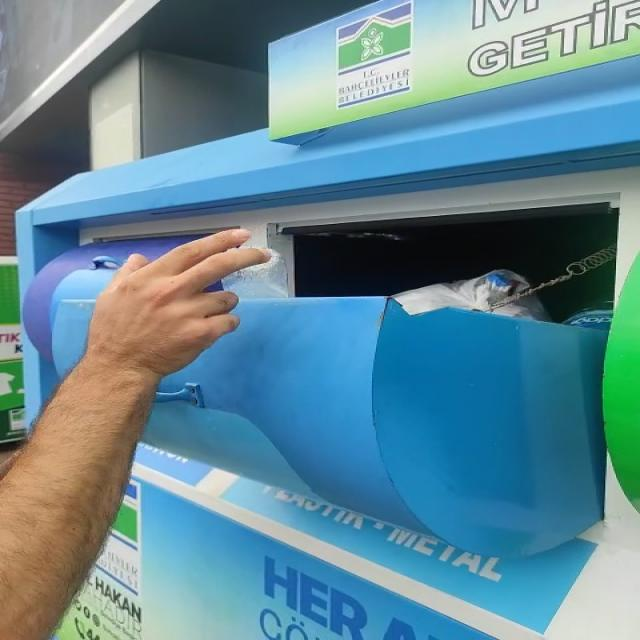plastic: (221, 249, 288, 299)
